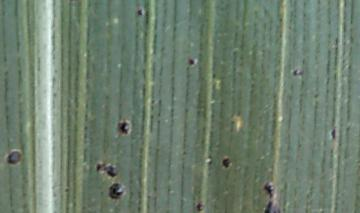tarspot: (94, 161, 118, 178), (4, 150, 23, 167), (107, 182, 123, 200), (263, 182, 275, 200), (117, 121, 129, 135), (291, 68, 306, 78), (262, 200, 273, 213), (220, 156, 231, 169), (195, 201, 204, 212), (330, 126, 336, 139), (136, 8, 143, 18), (187, 58, 194, 65)
